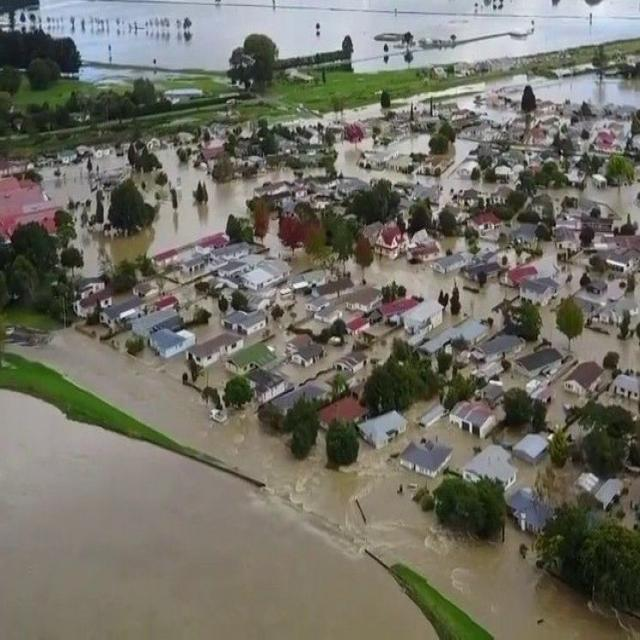flood: (0, 329, 627, 640), (35, 0, 640, 80), (75, 150, 280, 274), (367, 258, 518, 334), (531, 73, 640, 106), (551, 181, 640, 220), (40, 160, 97, 214), (575, 329, 640, 370), (93, 154, 124, 172), (442, 238, 467, 250)
house: (0, 178, 58, 227), (190, 332, 237, 390), (353, 406, 404, 452), (397, 438, 454, 478), (148, 322, 197, 368), (468, 445, 520, 488), (510, 489, 548, 536), (227, 302, 270, 341), (568, 356, 606, 400), (452, 400, 493, 440), (518, 276, 558, 314), (100, 299, 146, 329), (518, 348, 562, 379), (408, 232, 442, 271), (403, 300, 444, 332), (462, 256, 500, 290), (284, 335, 320, 367), (252, 369, 284, 402), (611, 369, 640, 403), (348, 288, 382, 312), (332, 352, 368, 374), (610, 248, 640, 274), (244, 269, 271, 291), (472, 214, 501, 233), (375, 230, 398, 252), (80, 278, 107, 296), (182, 258, 205, 274), (306, 298, 330, 312), (491, 186, 507, 204)
